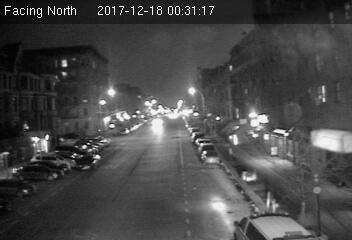car: (199, 149, 222, 165), (75, 154, 98, 169)
police: (226, 209, 320, 240)
